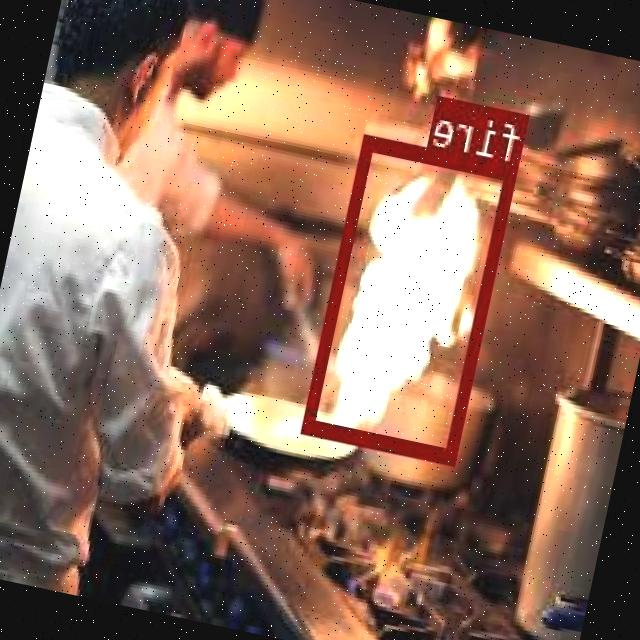fire: (302, 132, 520, 464)
